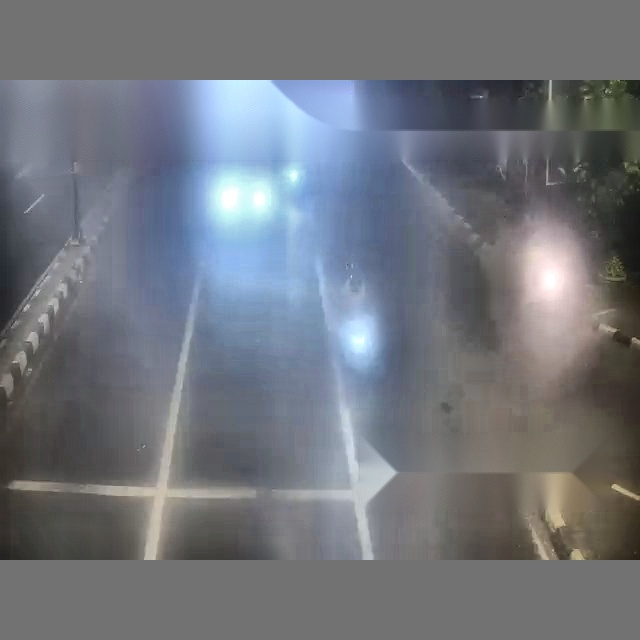Bis: (3, 84, 532, 563)
